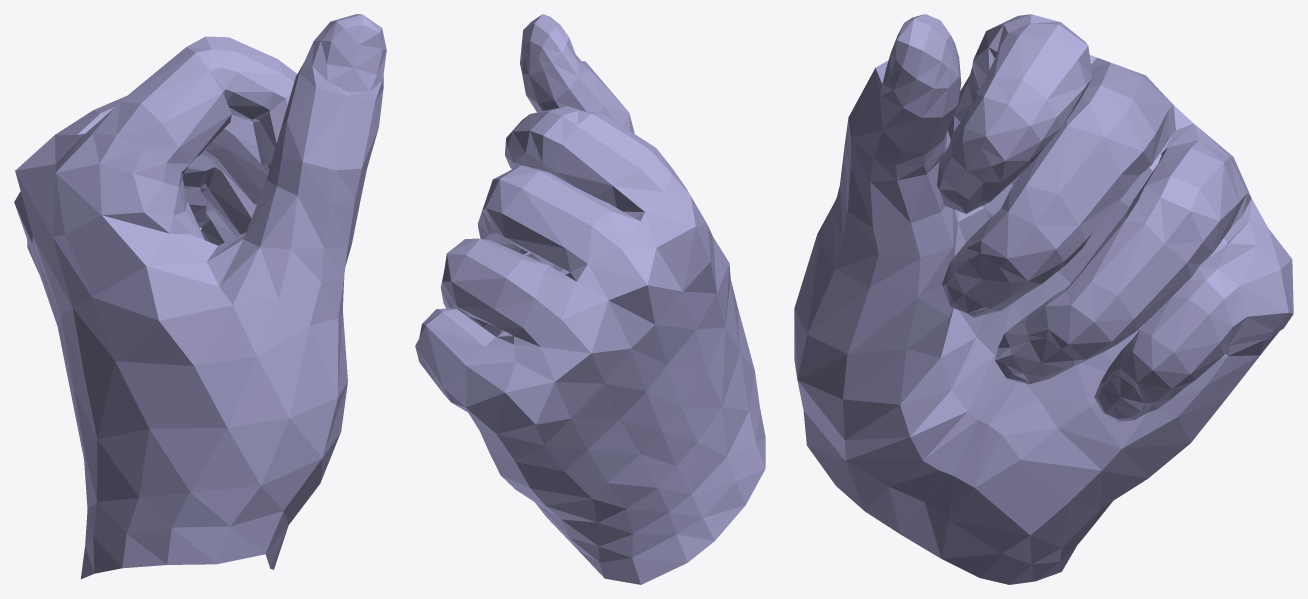
File: frame_0015_source_000015_hand.glb
3 renders of one model, left to right at view 1: azimuth 30°, elevation 25°; view 2: azimuth 150°, elevation 25°; view 3: azimuth 270°, elevation 25°, orthographic. The views are drawn at different scales.
Parts seen in each view (by area): view 1: world; view 2: world; view 3: world.
Boxes of the visible parts, box(x1,y1,x2,y2) form: world: box(14, 14, 386, 578); world: box(415, 14, 765, 584); world: box(794, 14, 1293, 584).
Size of the model in its own units: 0.063 by 0.1261 by 0.091.
